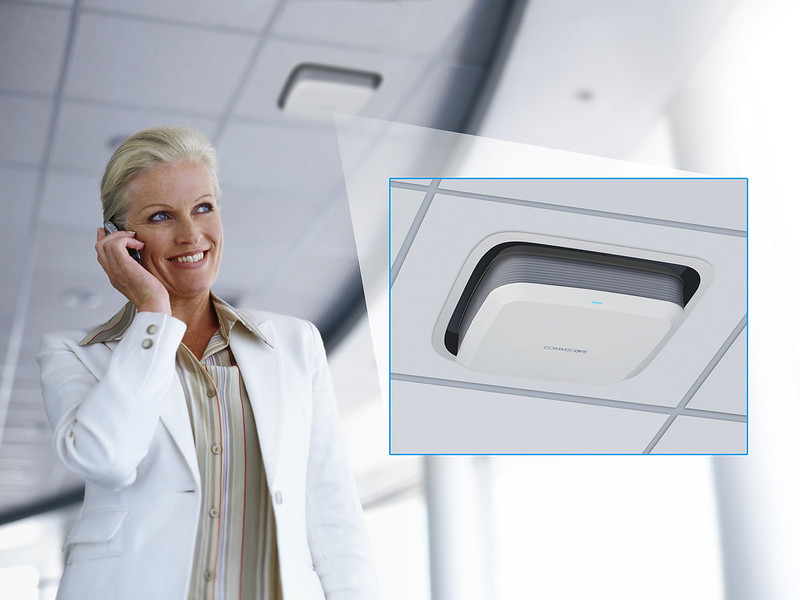phone: (97, 215, 145, 277)
talk: (98, 193, 223, 311)
